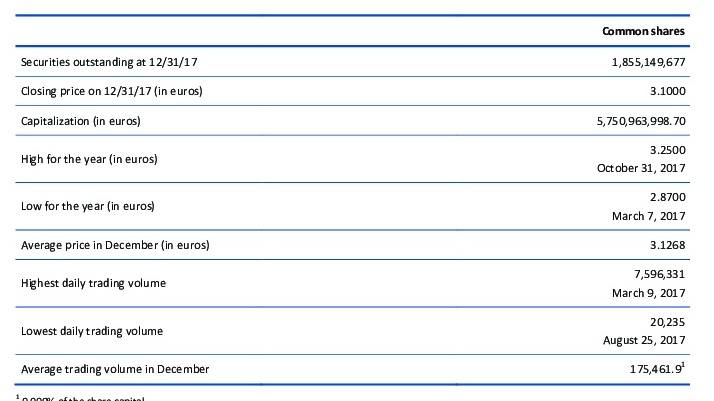table: (0, 0, 714, 401)
